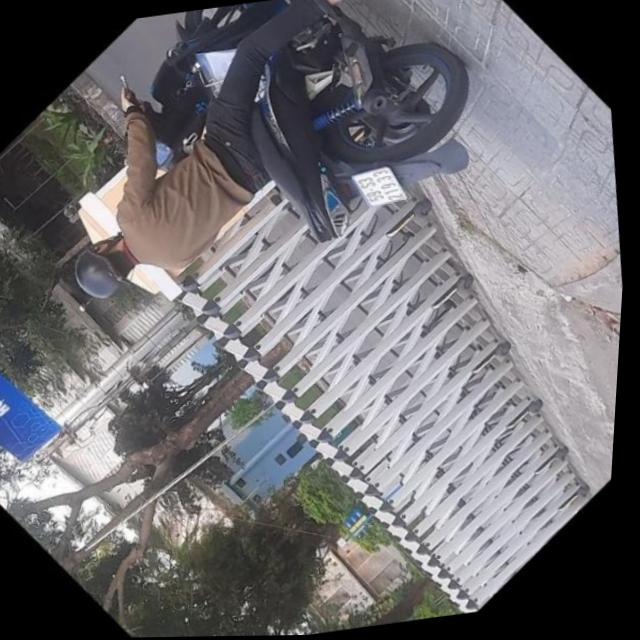WITH_HELMET: (61, 228, 146, 311)
